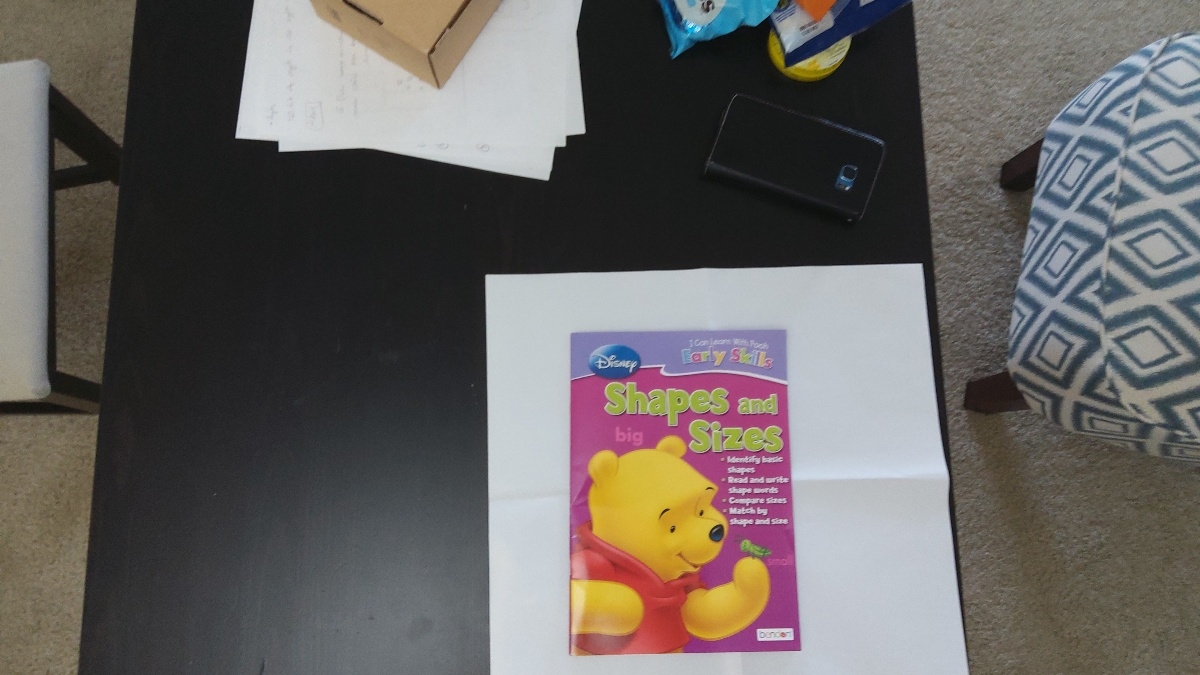book: (570, 337, 803, 652)
